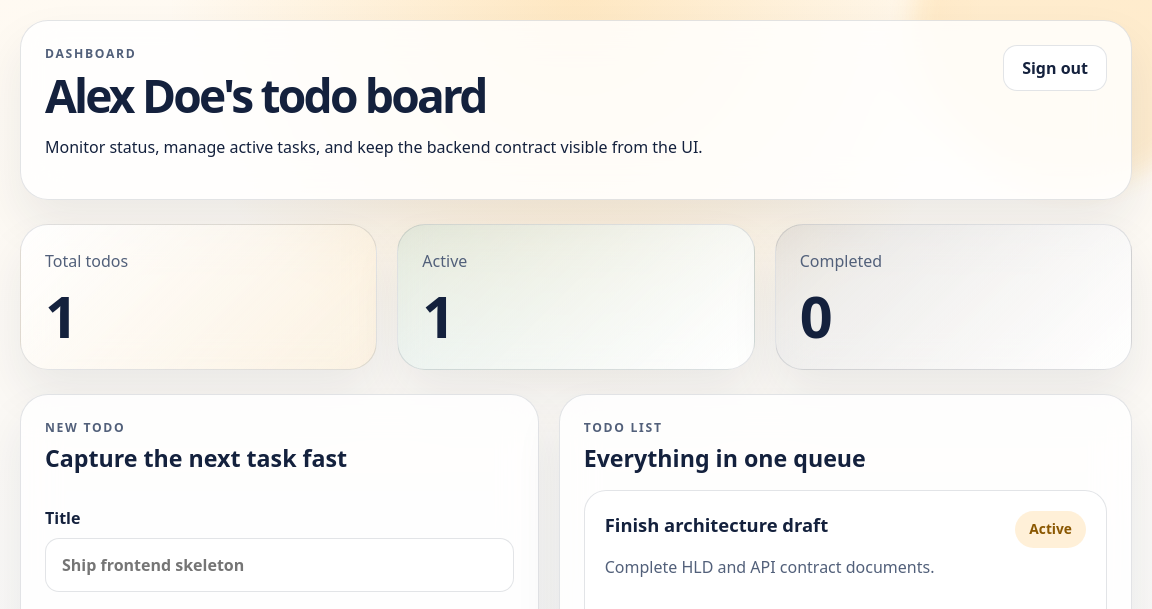
App › creates and updates a todo from the dashboard flow
Type "Ship frontend implementation" into the field labelled "Title".
click(279, 565); type("Ship frontend implementation")  # box x1=45 y1=538 x2=514 y2=592
(page scrolled)
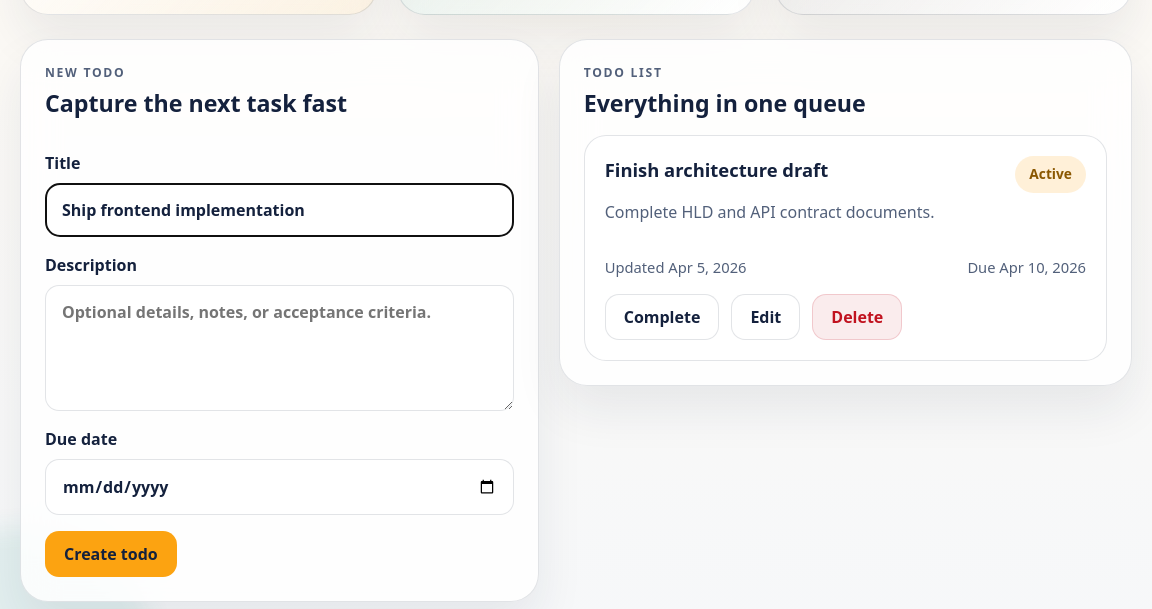
Type "Wire auth, dashboard, and todo flows." into the text box labelled "Description".
click(279, 348); type("Wire auth, dashboard, and todo flows.")  # box x1=45 y1=285 x2=514 y2=411
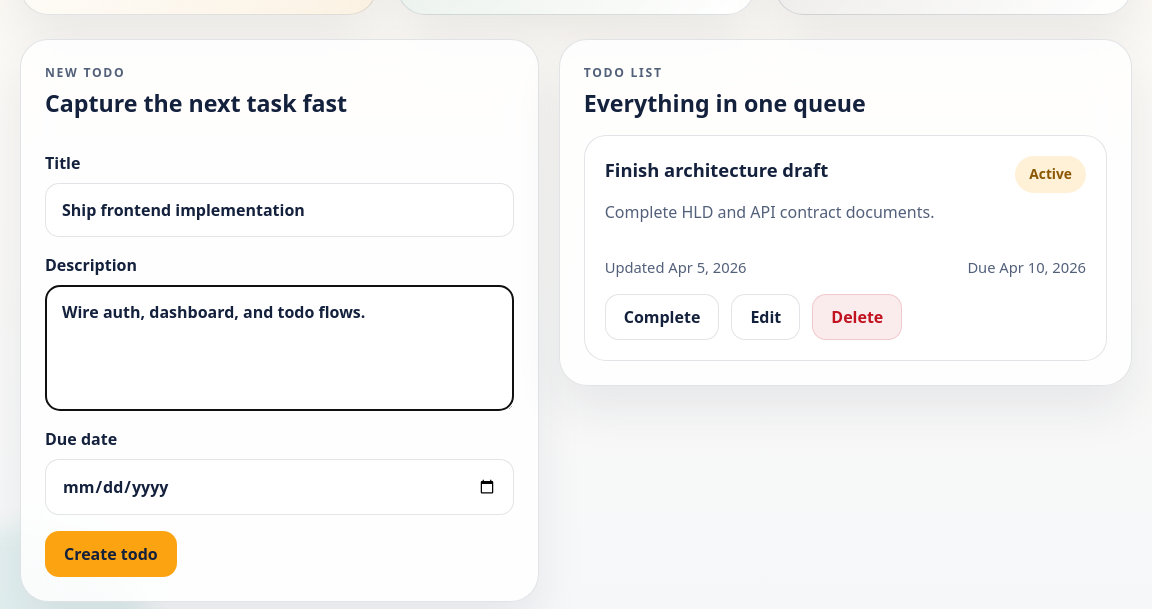
Click the button "Create todo".
click(111, 554)  # box x1=45 y1=531 x2=177 y2=577
(page scrolled)
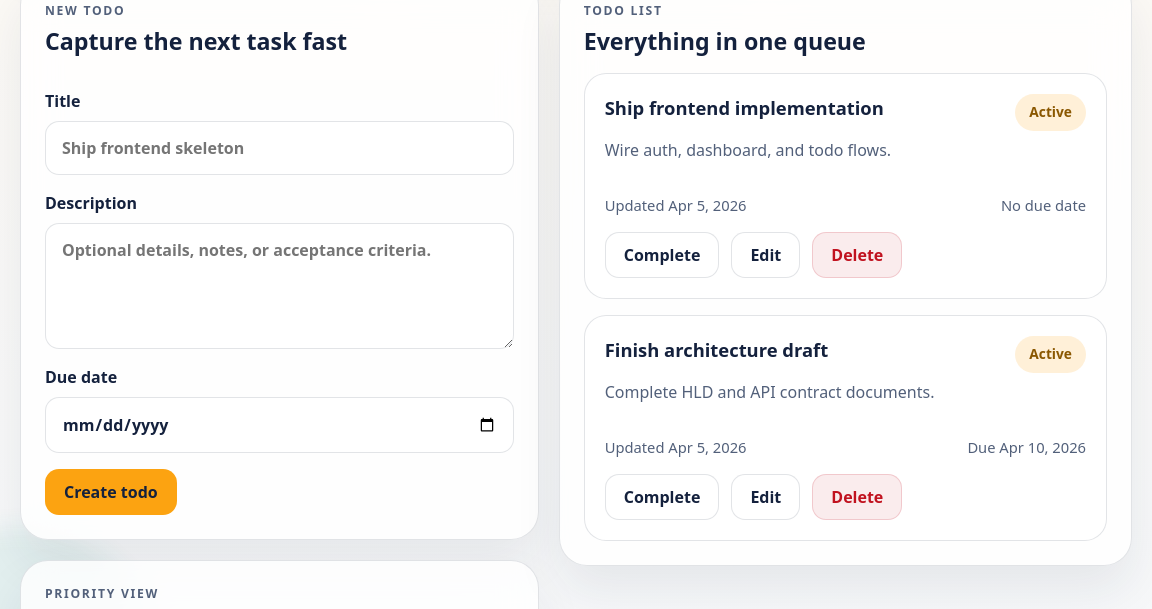
Expected: the heading "Ship frontend implementation" is shown, x1=605 y1=94 x2=891 y2=122
Click the button "Complete" below "Wire auth, dashboard, and todo flows.".
click(662, 255)  # box x1=605 y1=232 x2=719 y2=278
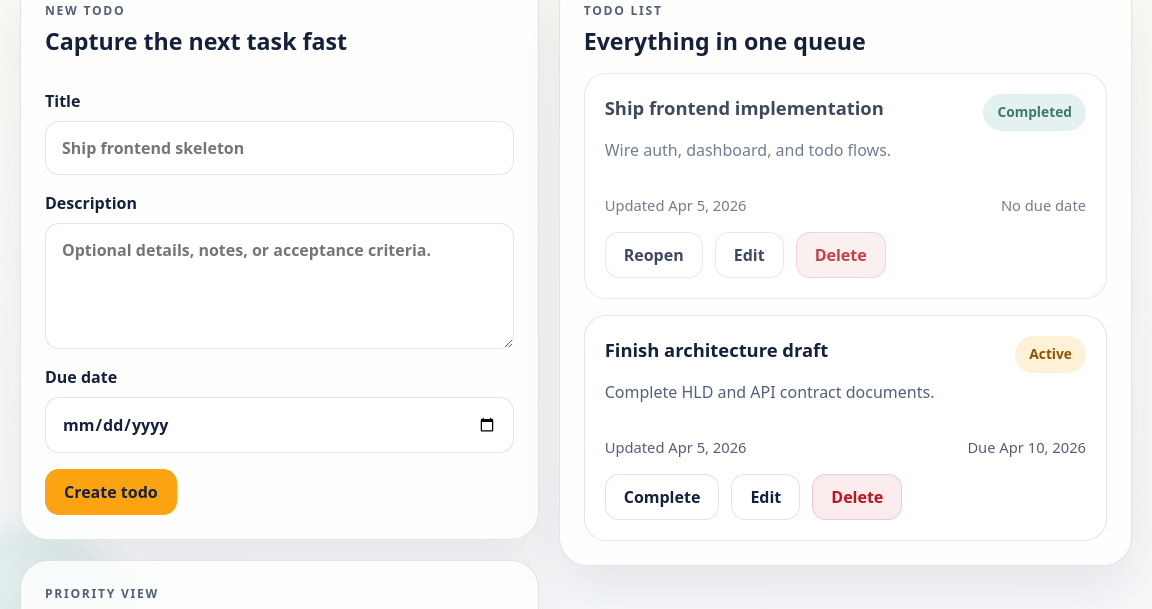
Expected: the text "completed" is shown, x1=983 y1=94 x2=1086 y2=131
